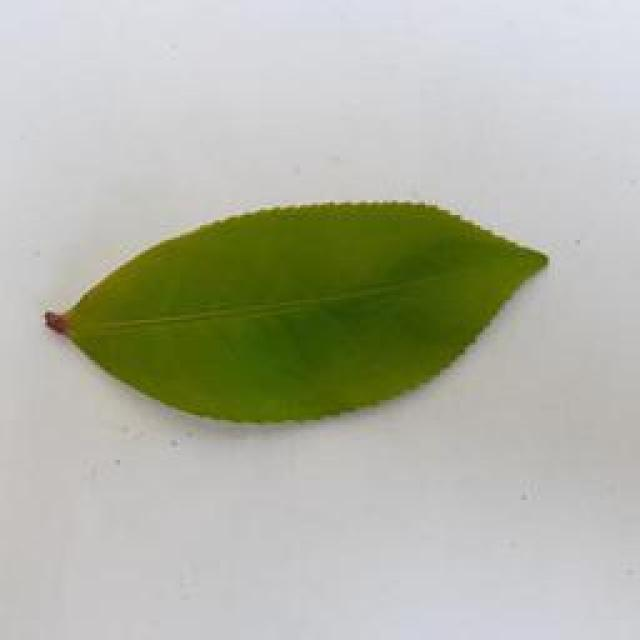Healthy: (39, 174, 554, 429)
